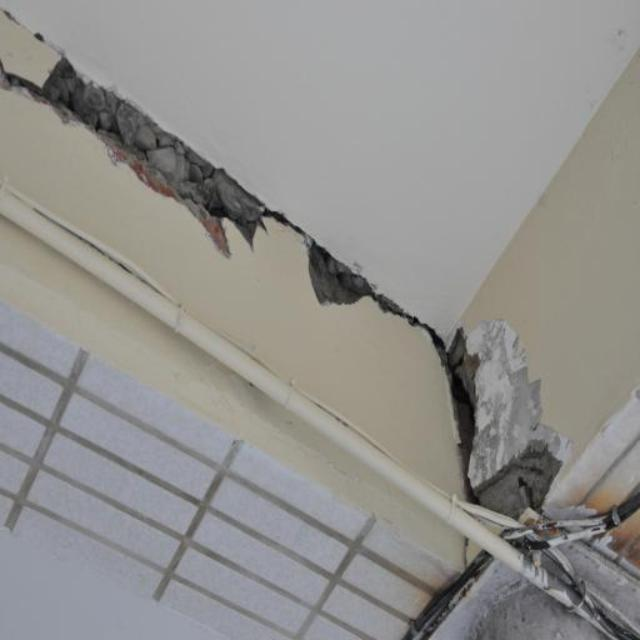D10: (6, 58, 389, 301), (2, 54, 301, 255)
